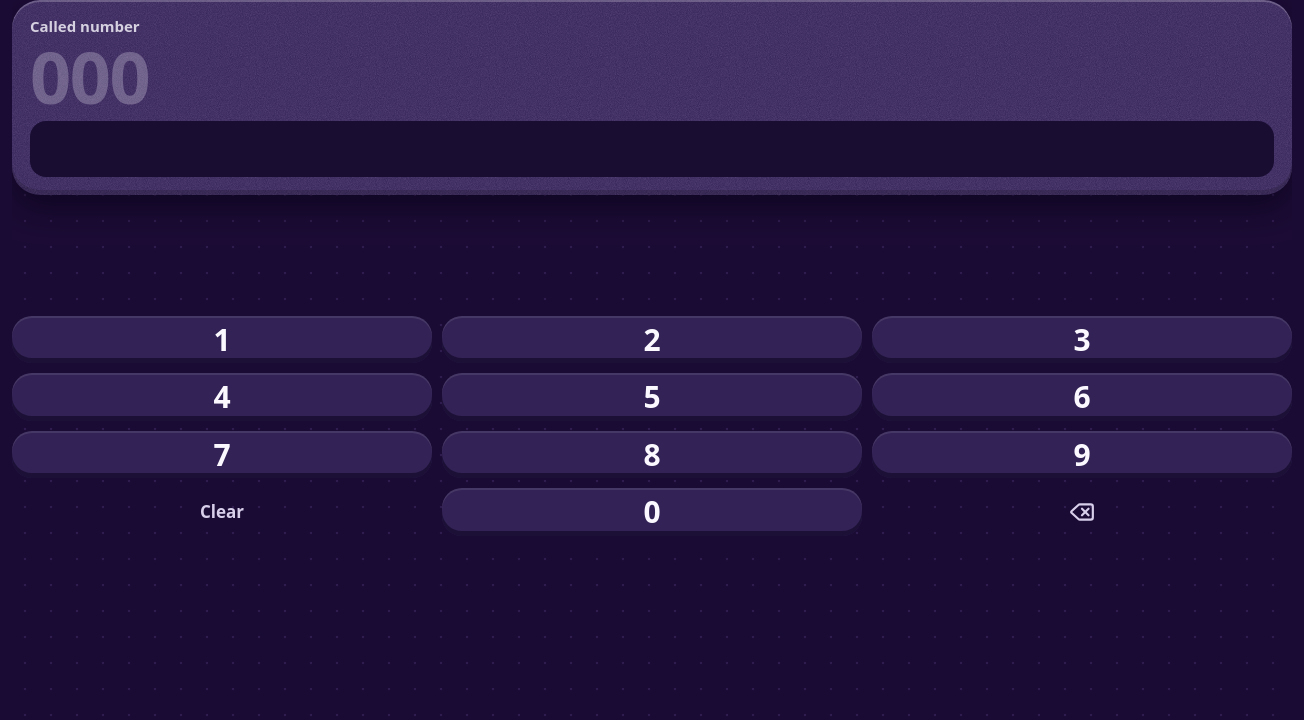
Scenario: CheckPad › says “It’s yours!” for a ticket you hold
Click the button "3".
click(1082, 340)  # box x1=872 y1=316 x2=1292 y2=363
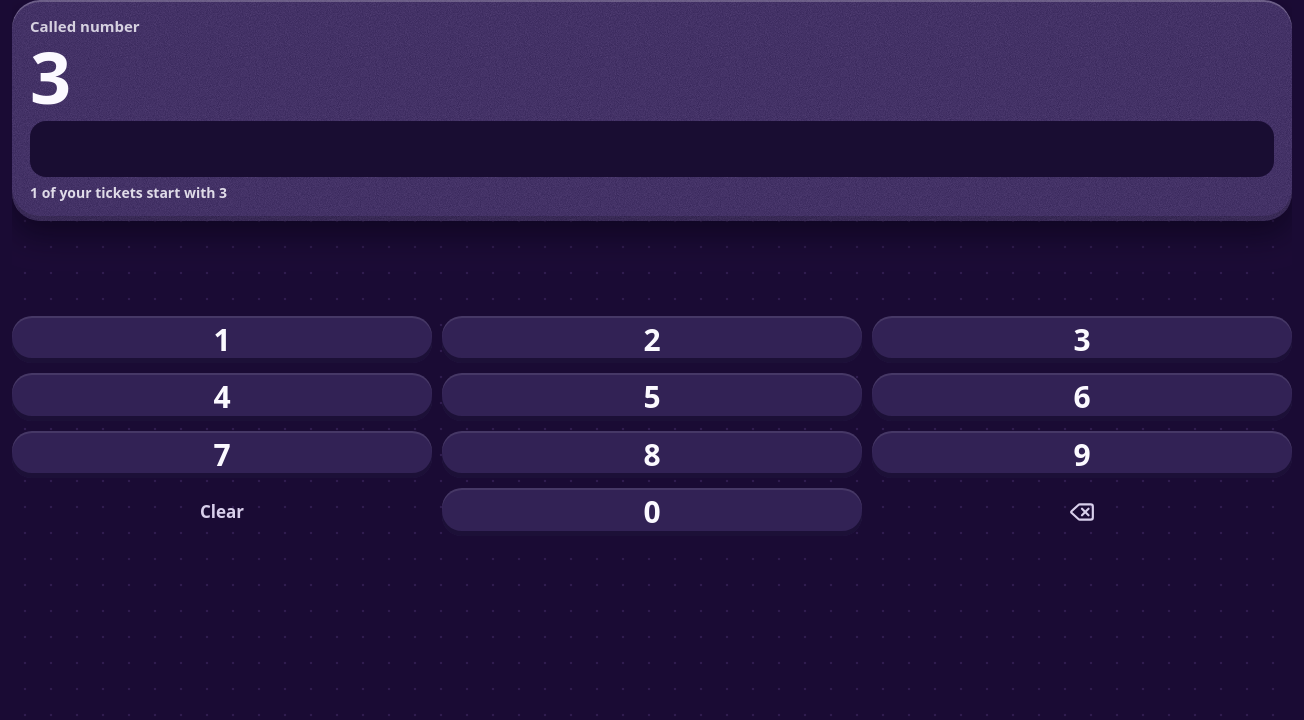
Click the button "6".
click(1082, 397)  # box x1=872 y1=374 x2=1292 y2=421
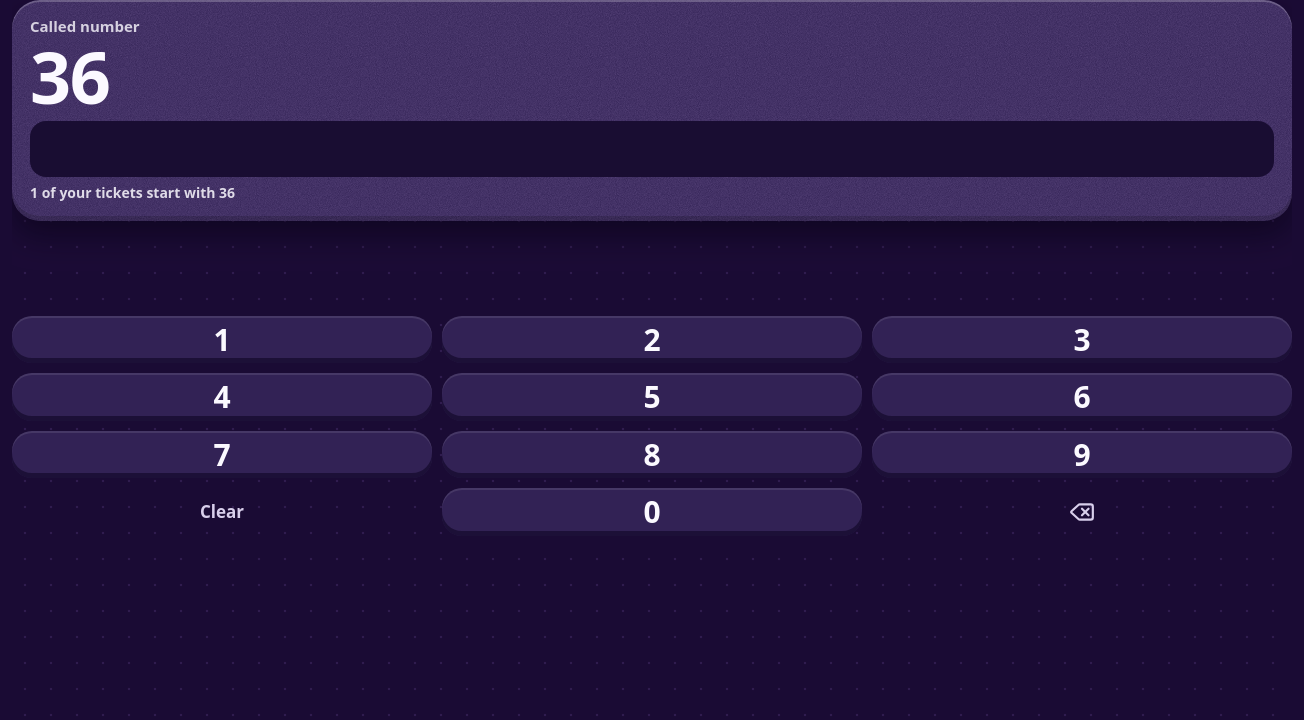
Click the button "1".
click(222, 340)  # box x1=12 y1=316 x2=432 y2=363
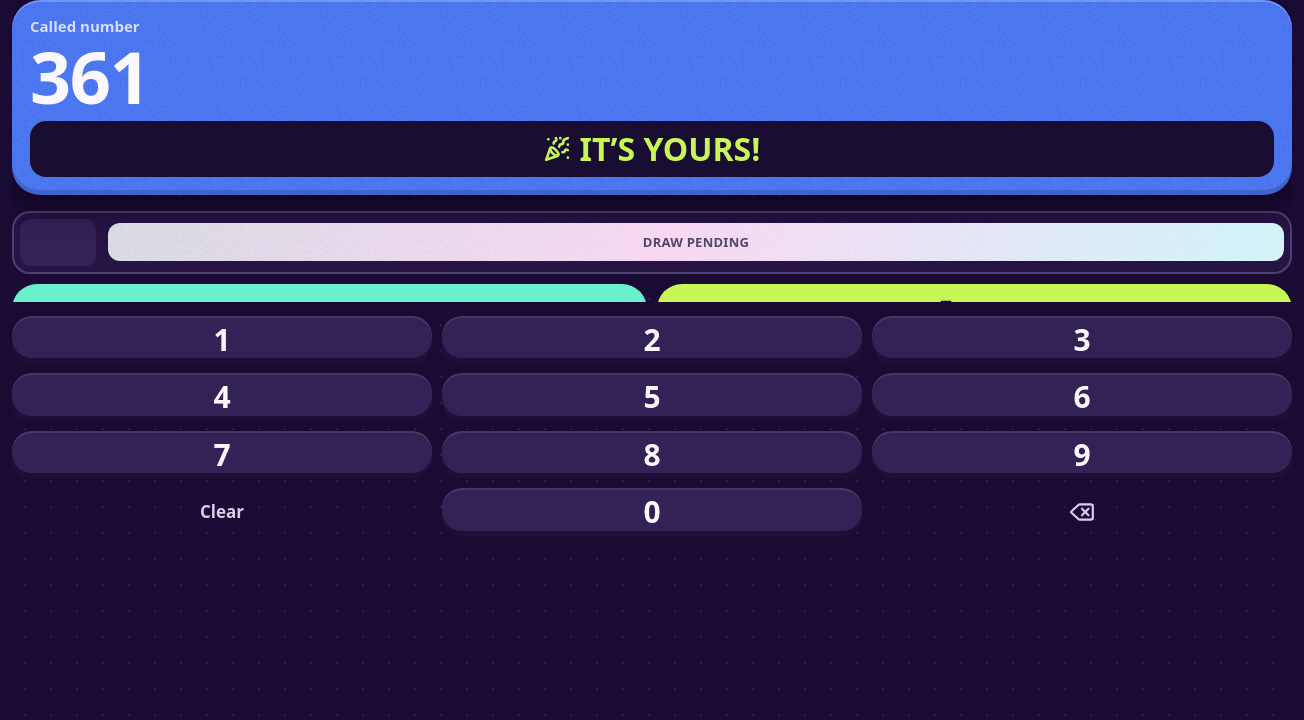
Expected: the text "It’s yours!" is shown, x1=580 y1=132 x2=760 y2=165
